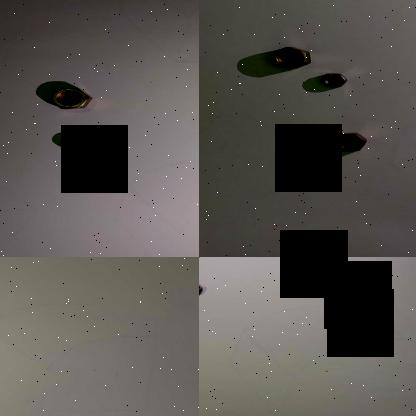NUTS: (43, 86, 93, 112), (267, 46, 311, 70), (328, 132, 364, 154), (316, 72, 350, 89), (56, 134, 88, 152)
